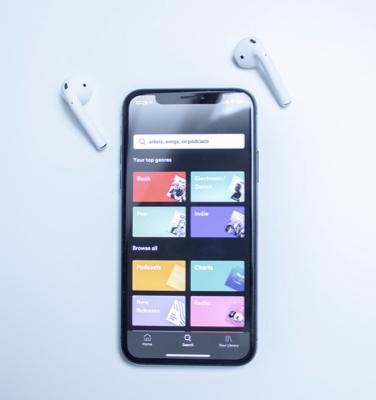cell-phone: (116, 82, 260, 368)
